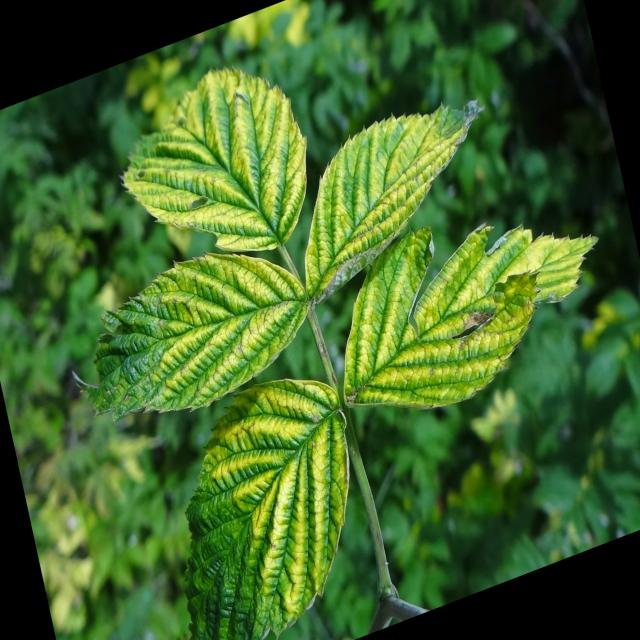Chlorosis: (102, 41, 563, 593)
